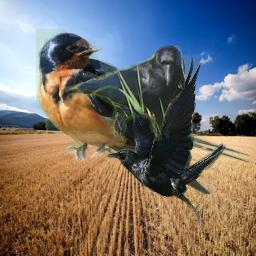Crow: (106, 52, 226, 225), (64, 45, 185, 141)
Swallow: (36, 29, 253, 194)
